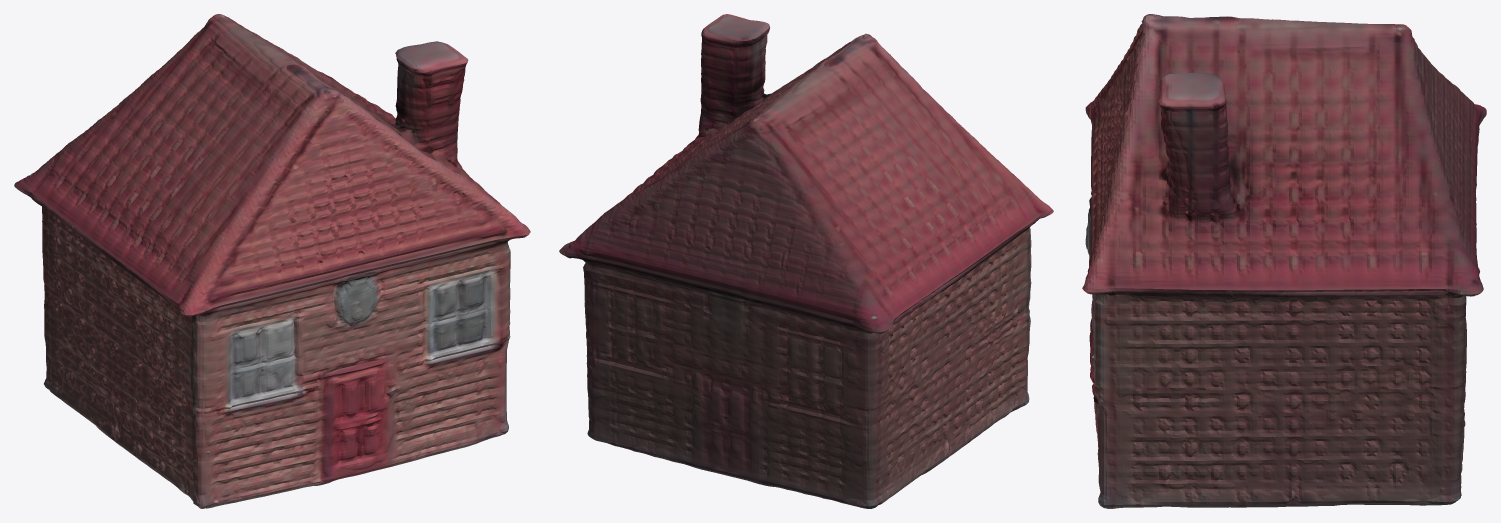
File: demo_house.glb
3 renders of one model, left to right at view 1: azimuth 30°, elevation 25°; view 2: azimuth 150°, elevation 25°; view 3: azimuth 270°, elevation 25°, orthographic. The views are drawn at different scales.
Parts seen in each view (by area): view 1: geometry_0; view 2: geometry_0; view 3: geometry_0.
Boxes of the visible parts, bbox=[...] form: geometry_0: bbox=[14, 14, 530, 508]; geometry_0: bbox=[559, 14, 1053, 508]; geometry_0: bbox=[1082, 14, 1486, 508].
Size of the model in its own units: 0.9796 by 1 by 0.879.
